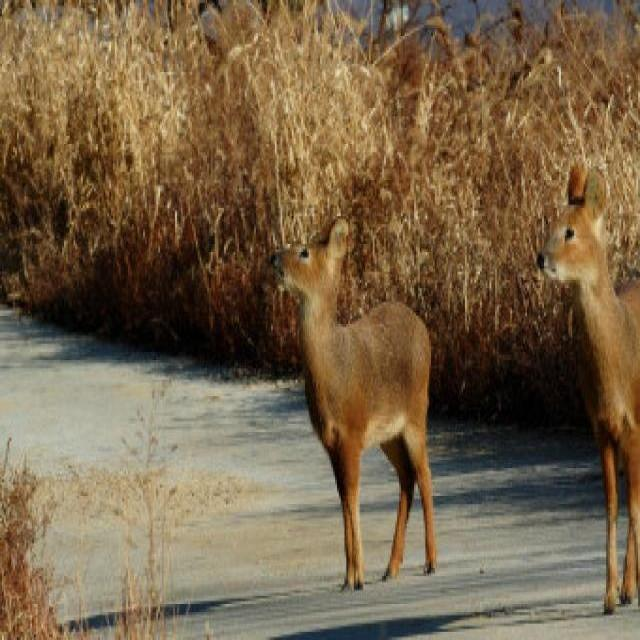deer: (264, 219, 461, 610), (532, 145, 640, 640)
